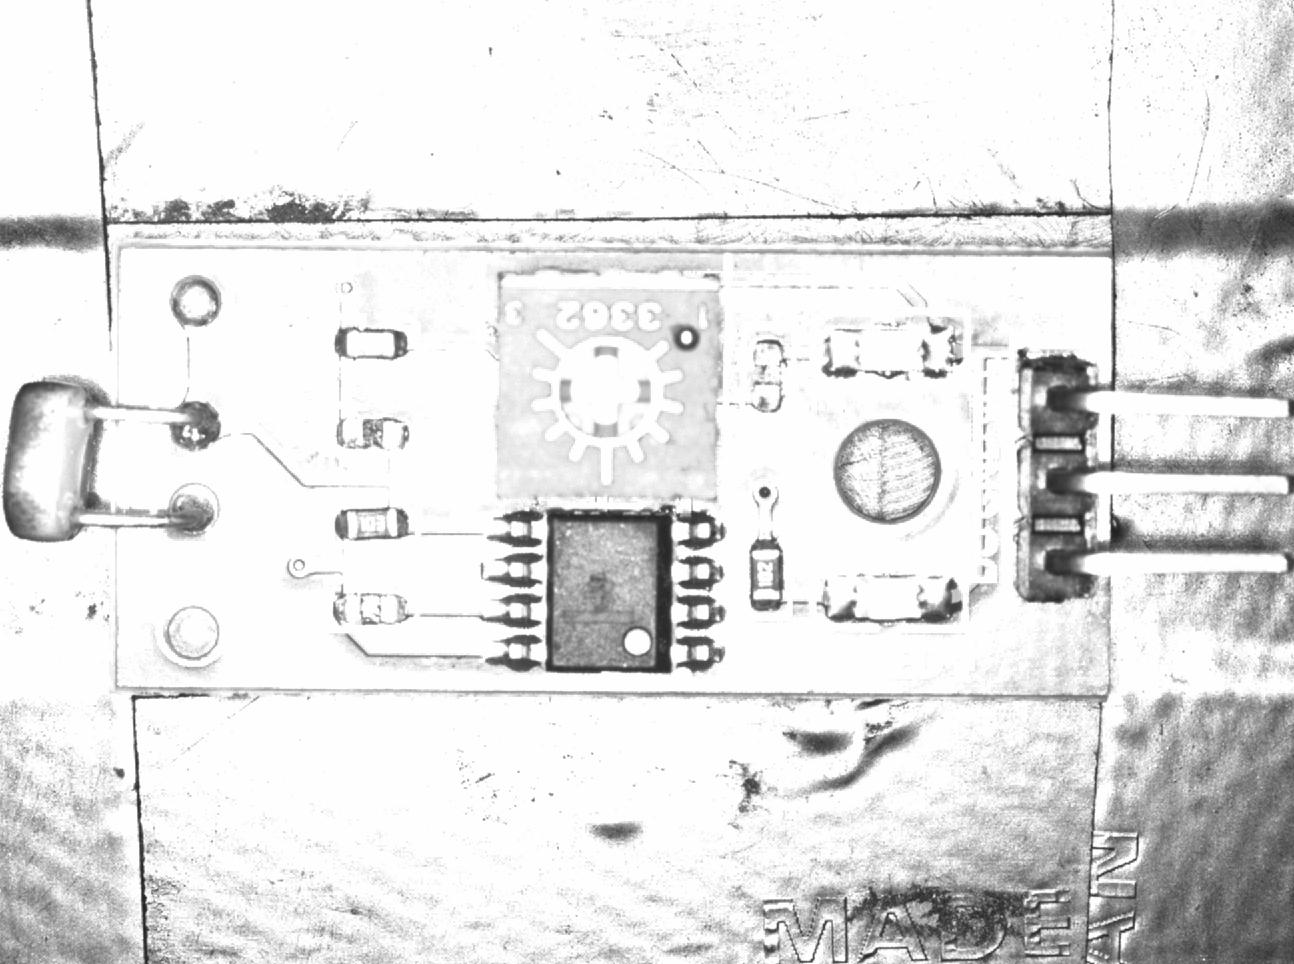miss: (329, 404, 423, 459), (319, 584, 416, 635), (740, 328, 791, 424)
ok: (328, 315, 424, 371), (738, 528, 793, 621), (326, 501, 421, 551)
